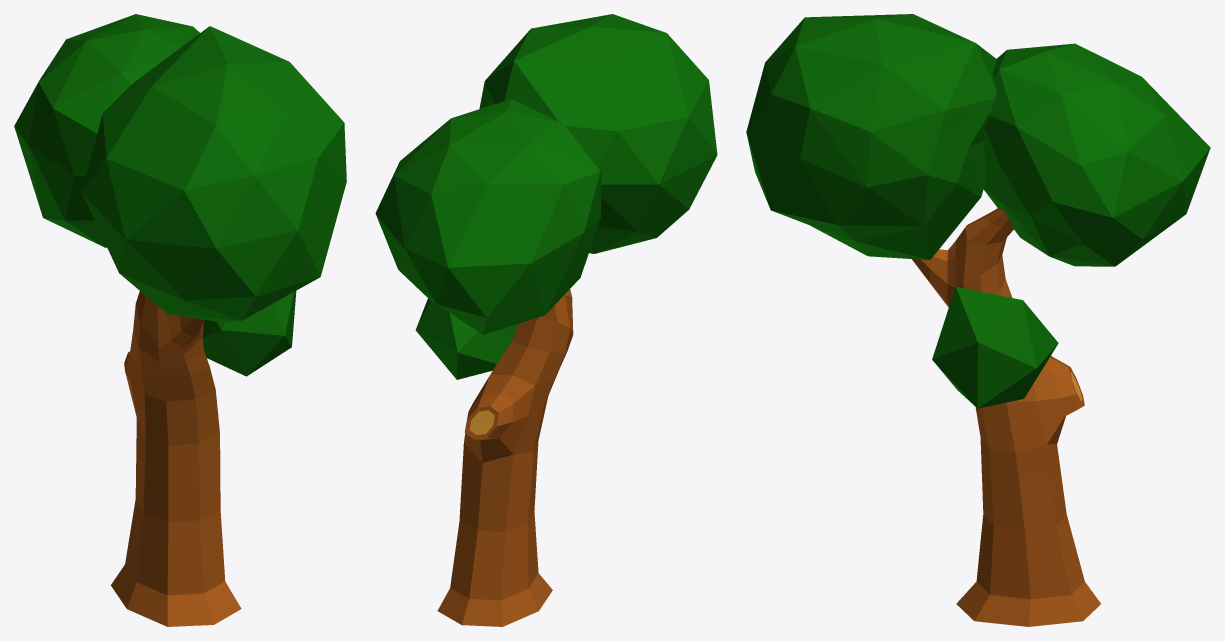
The model's file is Tree_1.fbx.
3 renders of one model, left to right at view 1: azimuth 30°, elevation 25°; view 2: azimuth 150°, elevation 25°; view 3: azimuth 270°, elevation 25°, orthographic. The views are drawn at different scales.
Visible parts, largest first — view 1: Leaves, Tree_1; view 2: Leaves, Tree_1; view 3: Leaves, Tree_1.
Part boxes in pixels (x1,y1,x2,y2): Leaves: (14,14,346,376); Tree_1: (111,291,241,626); Leaves: (375,14,717,379); Tree_1: (437,289,573,626); Leaves: (746,14,1210,408); Tree_1: (912,208,1100,626).
Size of the model in its own units: 530 by 1232 by 906.
